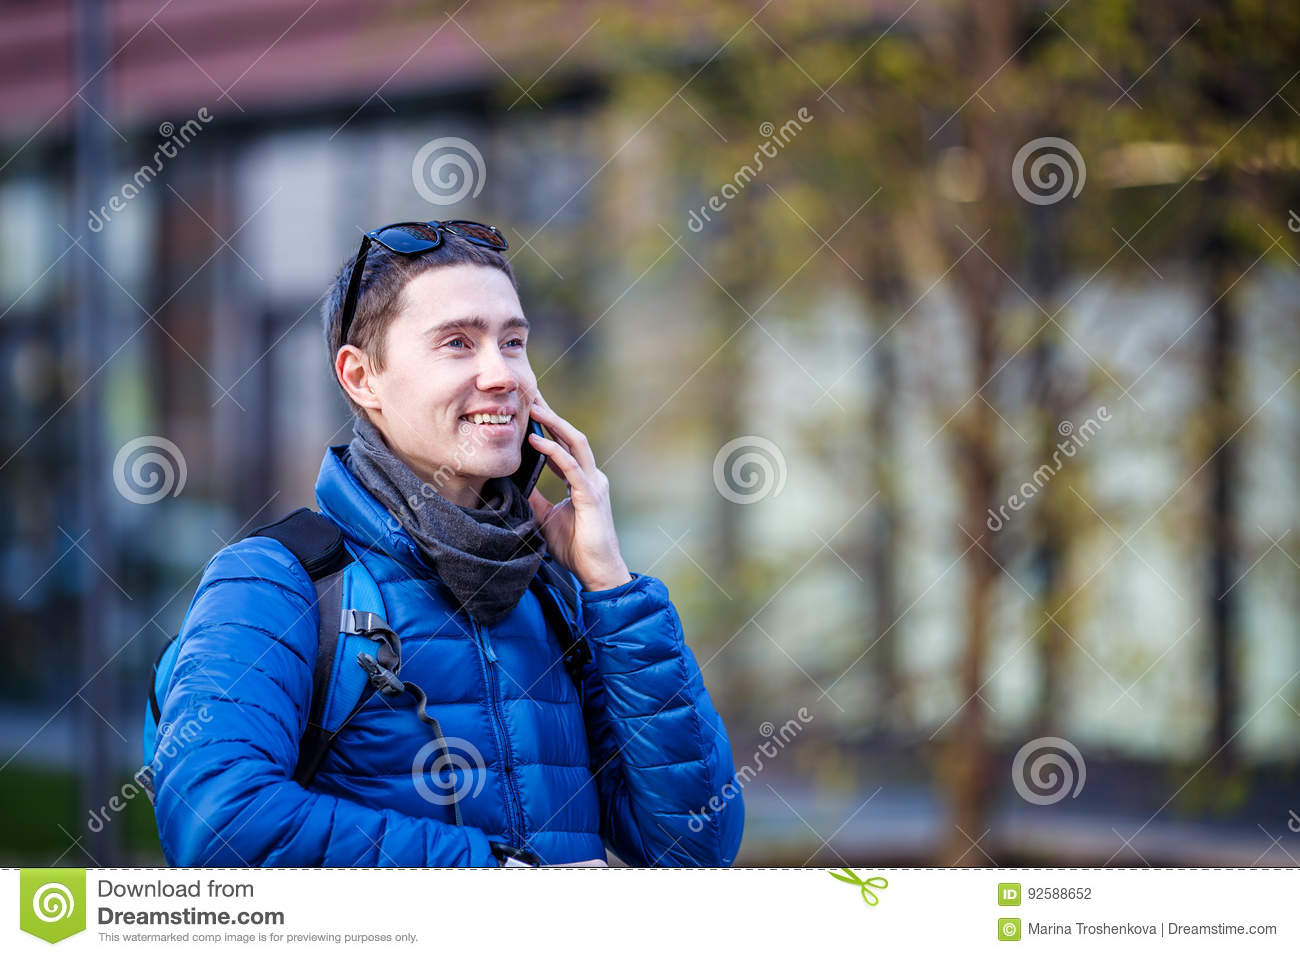phone: (513, 410, 551, 495)
talk: (427, 308, 618, 580)
